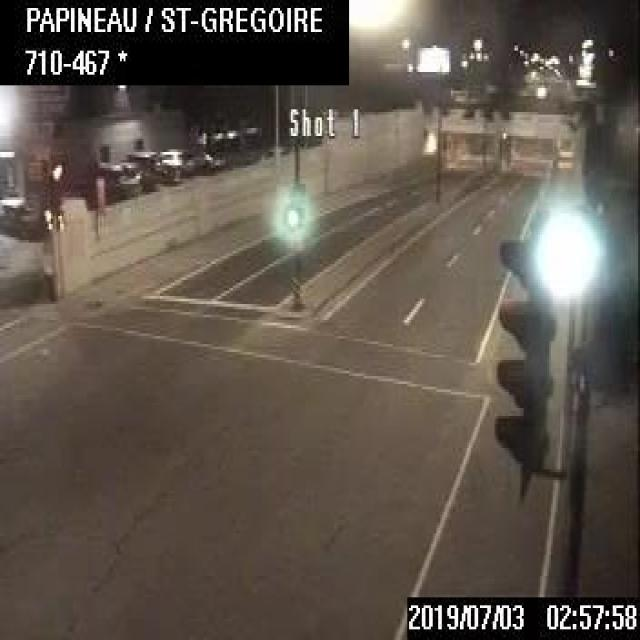vehicle: (126, 148, 160, 186), (158, 144, 195, 175)
